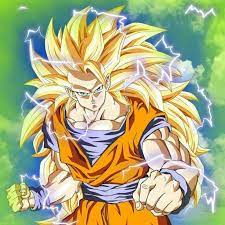Songoku: (59, 63, 116, 113)
